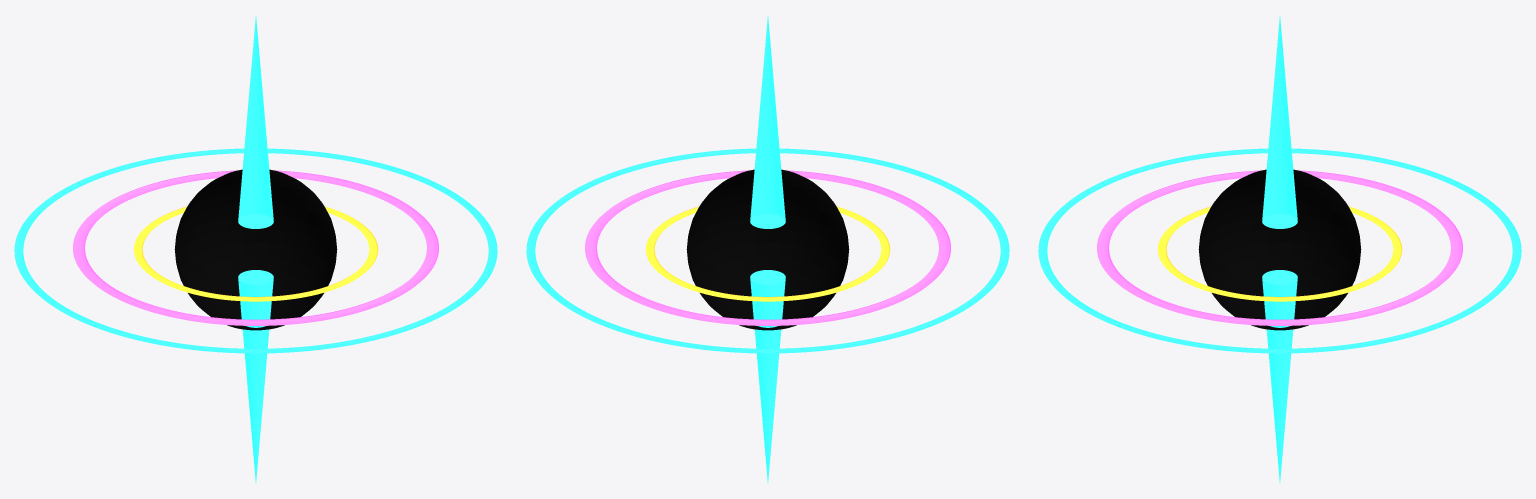
Rendered from blackhole.glb.
3 views of the same model, side by side, from view 1: azimuth 30°, elevation 25°; view 2: azimuth 150°, elevation 25°; view 3: azimuth 270°, elevation 25° (orthographic).
Visible parts, largest first — view 1: Visible Event Horizon, Visible Cyan Outer Ring, Visible Magenta Accretion Ring, Visible Relativistic Jet 1, Visible Relativistic Jet -1, Visible Inner Photon Ring; view 2: Visible Event Horizon, Visible Cyan Outer Ring, Visible Magenta Accretion Ring, Visible Relativistic Jet 1, Visible Relativistic Jet -1, Visible Inner Photon Ring; view 3: Visible Event Horizon, Visible Cyan Outer Ring, Visible Magenta Accretion Ring, Visible Relativistic Jet 1, Visible Relativistic Jet -1, Visible Inner Photon Ring.
Boxes of the visible parts, x1=… form: Visible Event Horizon: x1=174, y1=169, x2=337, y2=330; Visible Cyan Outer Ring: x1=14, y1=148, x2=497, y2=353; Visible Magenta Accretion Ring: x1=73, y1=170, x2=438, y2=325; Visible Relativistic Jet 1: x1=238, y1=16, x2=273, y2=228; Visible Relativistic Jet -1: x1=238, y1=270, x2=273, y2=482; Visible Inner Photon Ring: x1=133, y1=206, x2=378, y2=301; Visible Event Horizon: x1=686, y1=169, x2=849, y2=330; Visible Cyan Outer Ring: x1=526, y1=148, x2=1009, y2=353; Visible Magenta Accretion Ring: x1=585, y1=170, x2=950, y2=325; Visible Relativistic Jet 1: x1=750, y1=16, x2=785, y2=228; Visible Relativistic Jet -1: x1=750, y1=270, x2=785, y2=482; Visible Inner Photon Ring: x1=645, y1=206, x2=890, y2=301; Visible Event Horizon: x1=1198, y1=169, x2=1361, y2=330; Visible Cyan Outer Ring: x1=1038, y1=148, x2=1521, y2=353; Visible Magenta Accretion Ring: x1=1097, y1=170, x2=1462, y2=325; Visible Relativistic Jet 1: x1=1262, y1=16, x2=1297, y2=228; Visible Relativistic Jet -1: x1=1262, y1=270, x2=1297, y2=482; Visible Inner Photon Ring: x1=1157, y1=206, x2=1402, y2=301.
Bounding box in the file's own units: 5.95 × 6.4 × 5.95.
